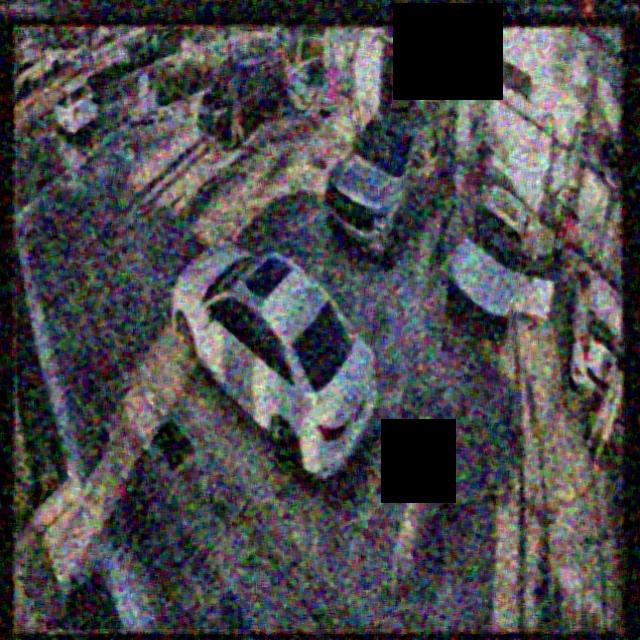Car: (170, 242, 376, 481), (324, 98, 453, 264), (444, 185, 555, 343), (200, 56, 290, 148)
